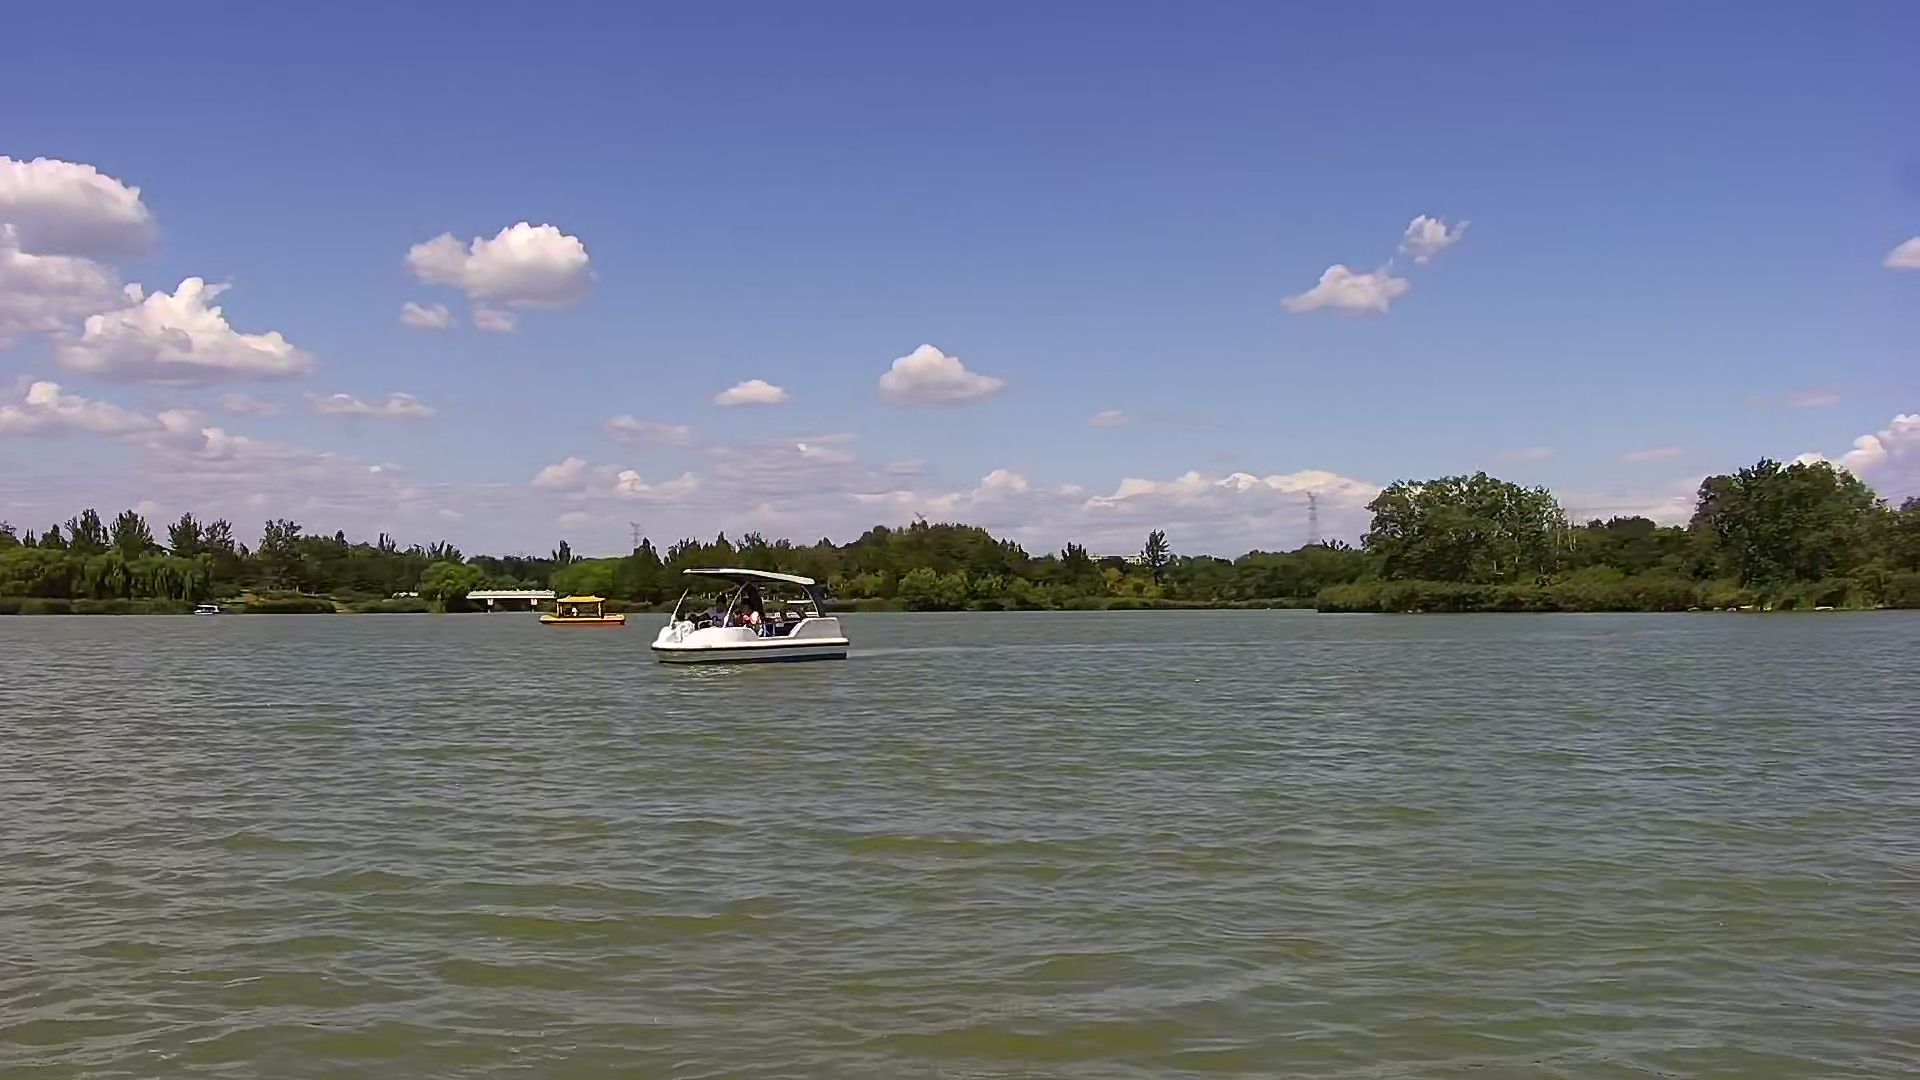boat: (649, 560, 851, 673), (541, 593, 622, 626)
bridge: (469, 589, 556, 612)
